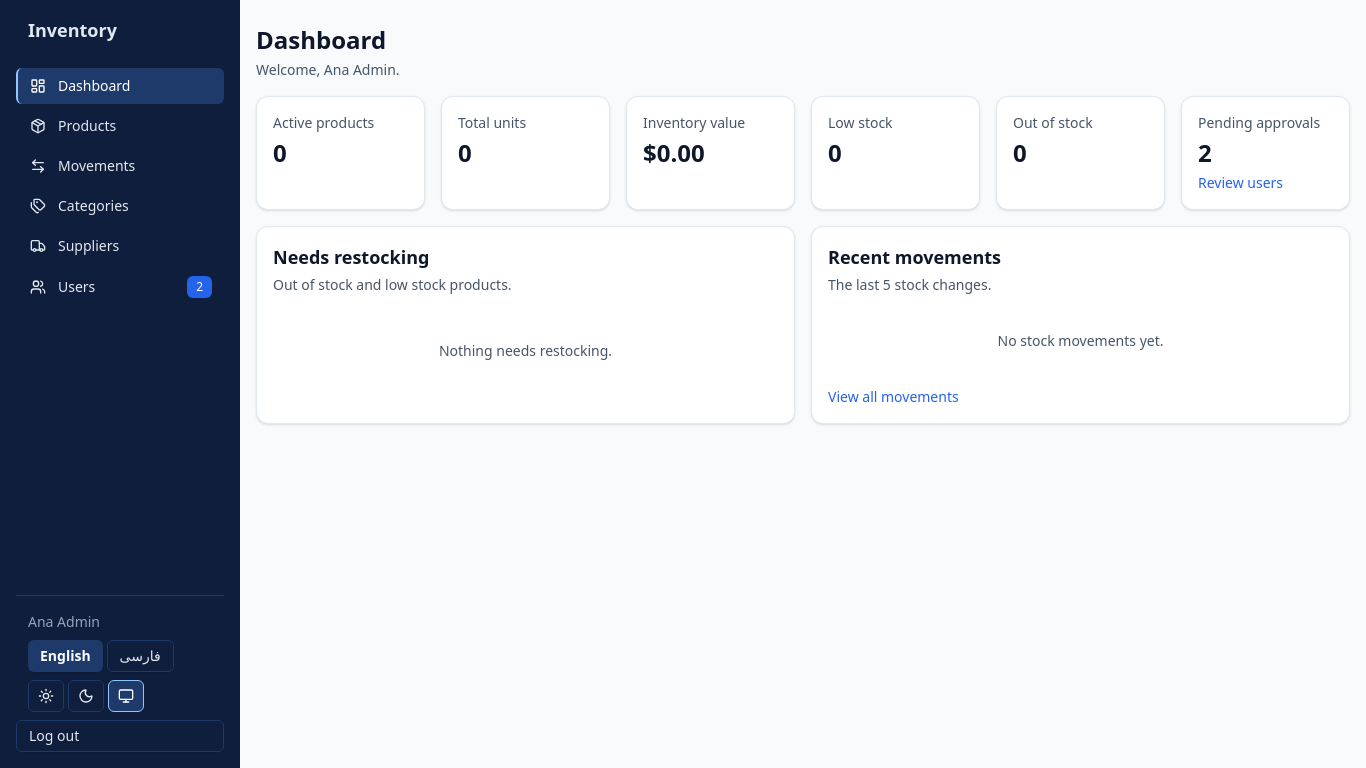
Test: UsersPage access › is reachable from the navigation for an admin
Click the link "Users 2" at [77, 286], box [30,276,212,298]
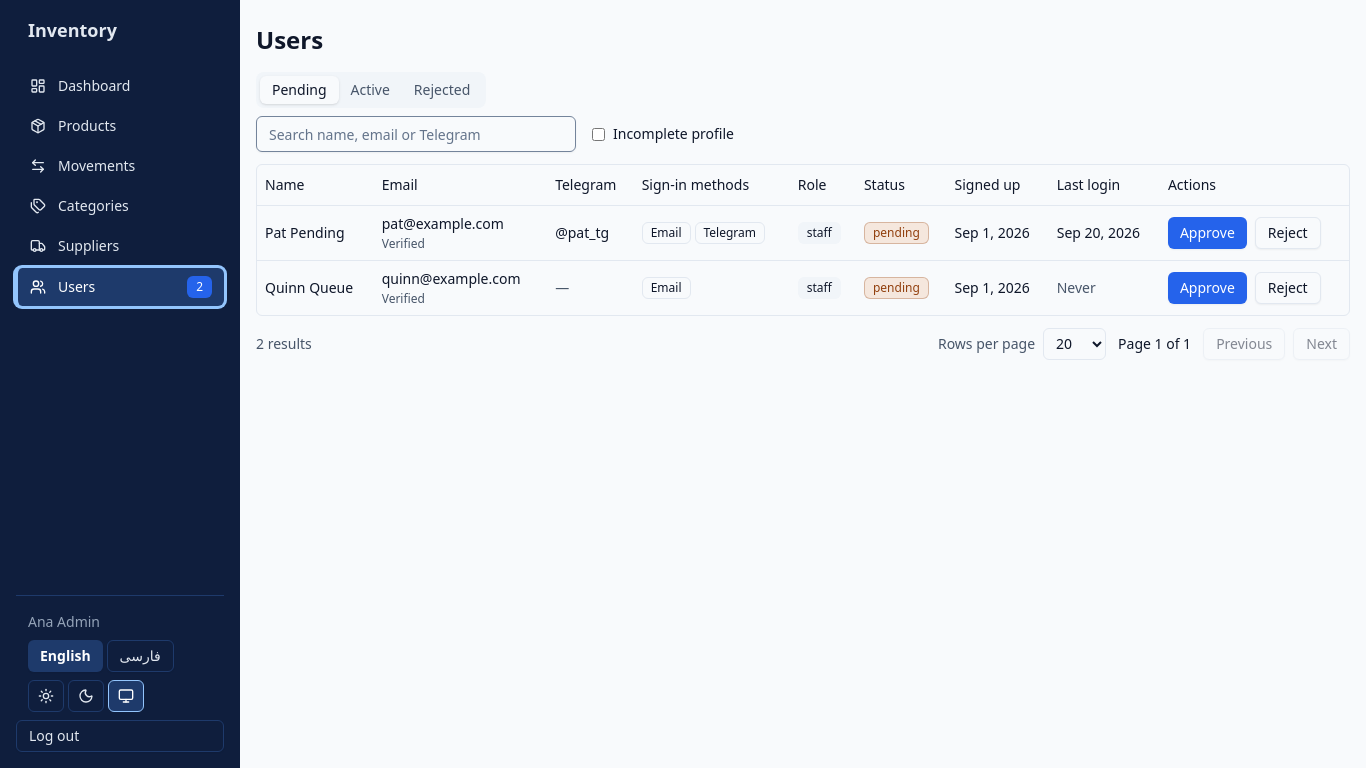
Now the heading "Users" is shown, box [256,24,323,56]
